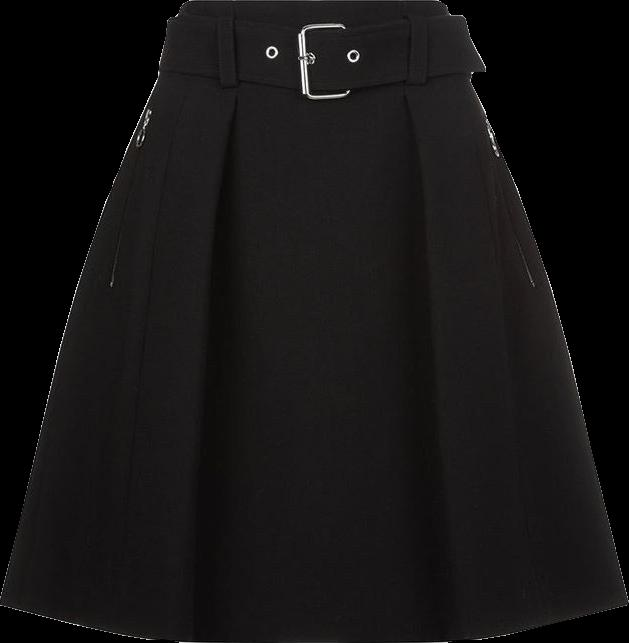Hemline: (0, 599, 628, 642)
Waistline: (181, 0, 442, 8)
